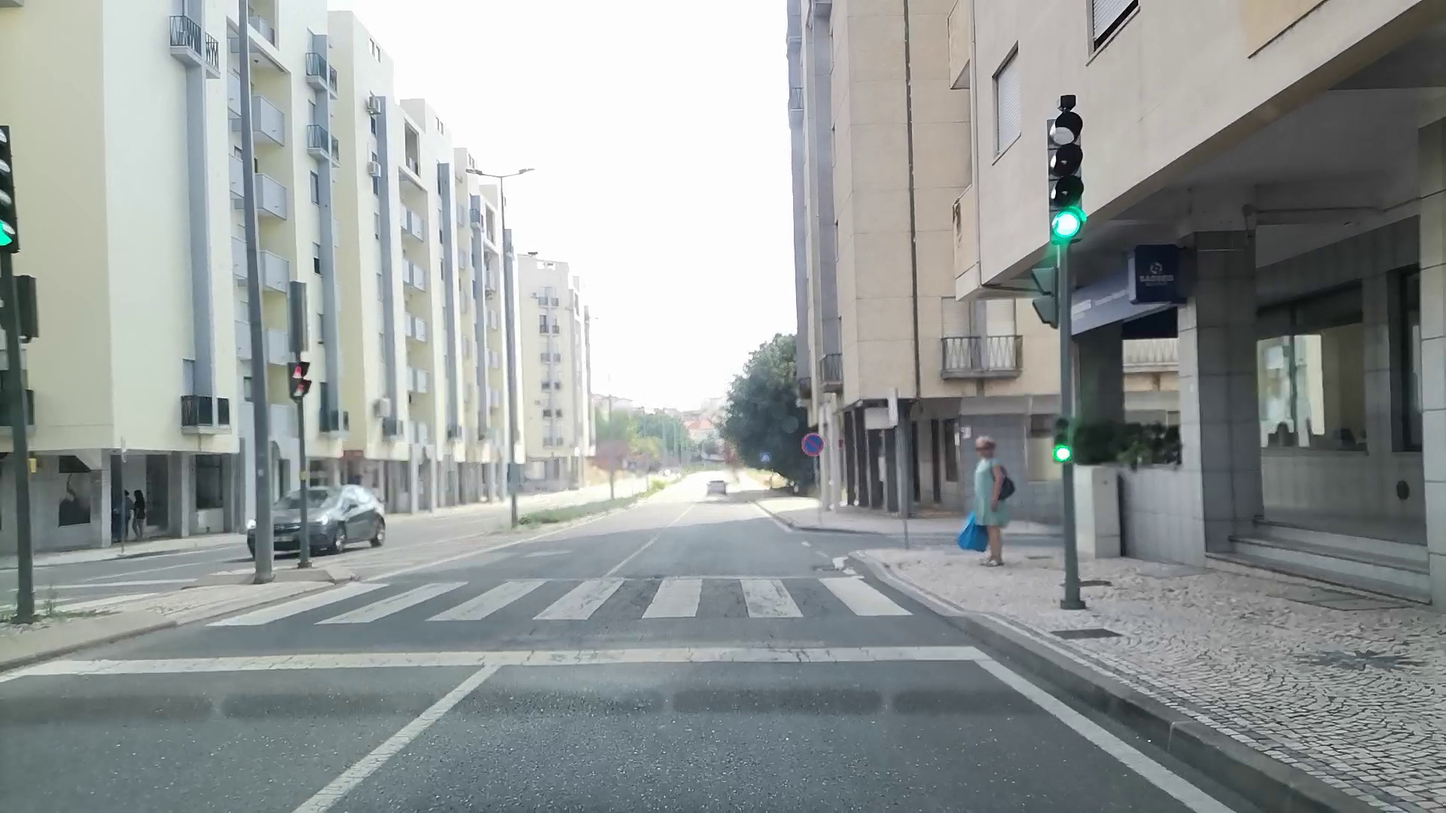Stairs: (223, 576, 911, 625)
